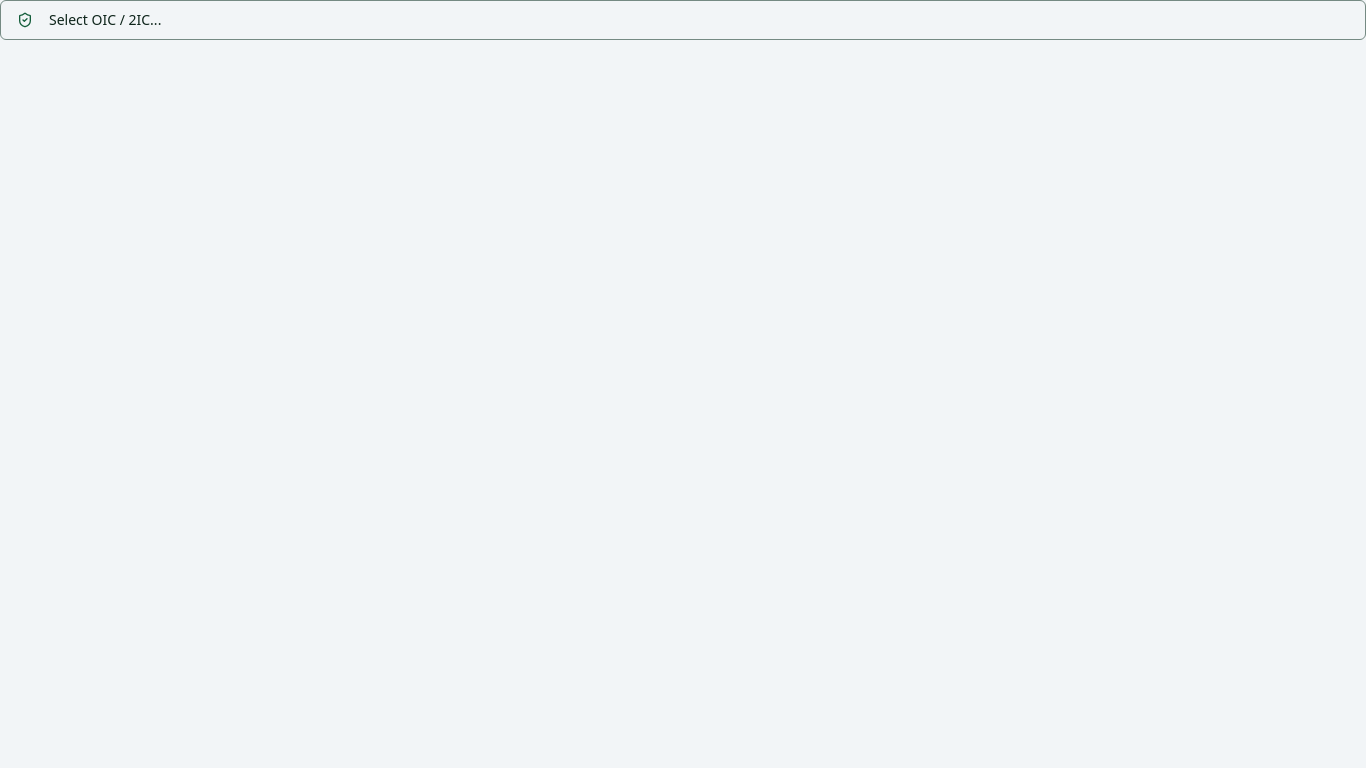
Test: AuthorisedByPicker — accessibility announcements › announces the offline state politely with a distinct Try-again label
Click the button "Select OIC / 2IC...": (105, 20) [0,0,1365,40]
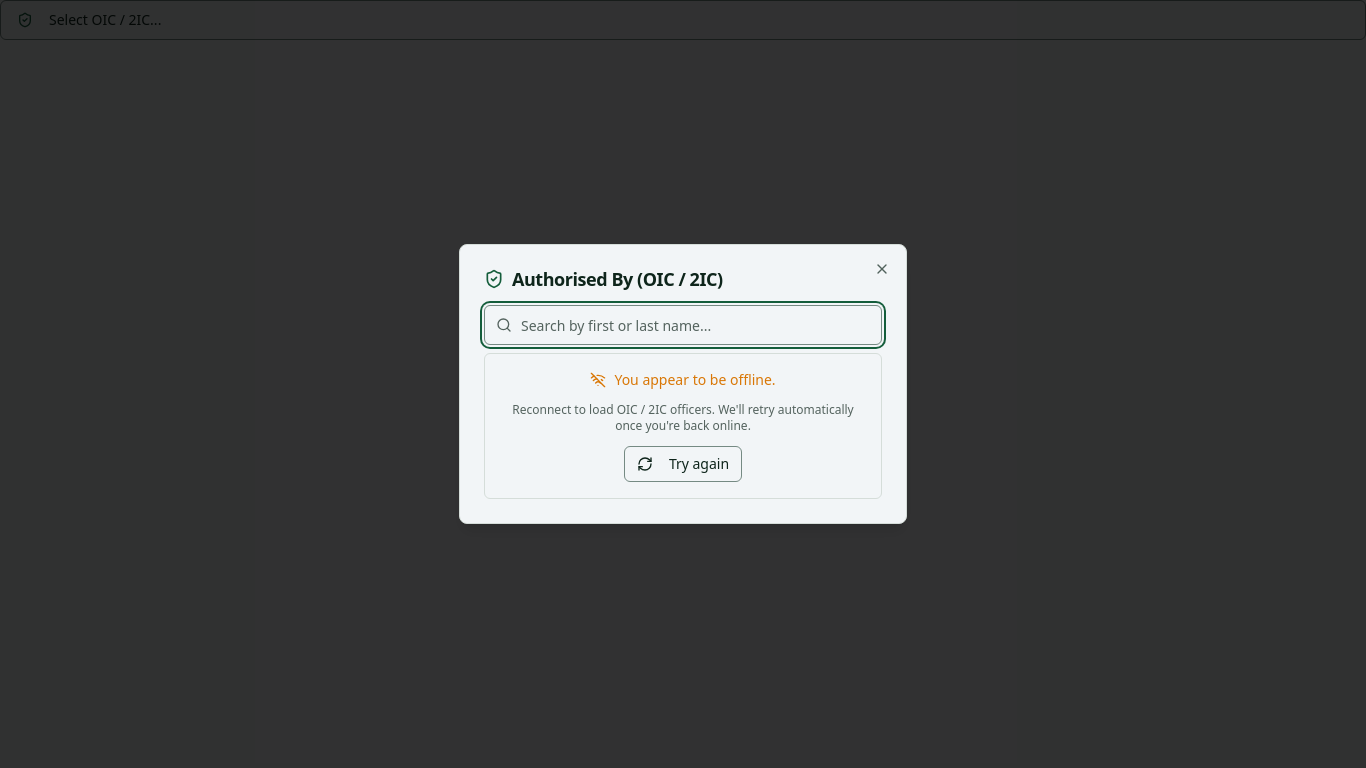
Expected: the message shows "You appear to be offline", [614,370,776,389]
Expected: the button with aria-label "try again to load officers (offline)" is shown, [624,446,742,482]
